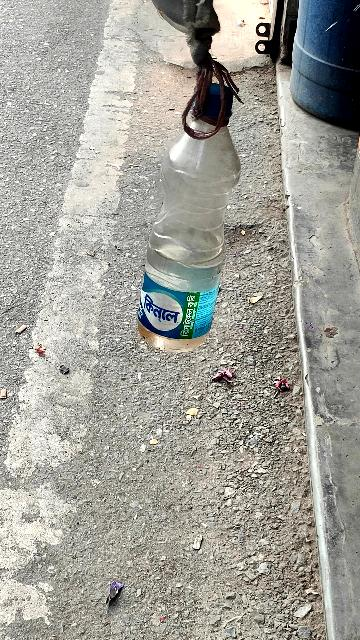bottle: (122, 87, 258, 353)
